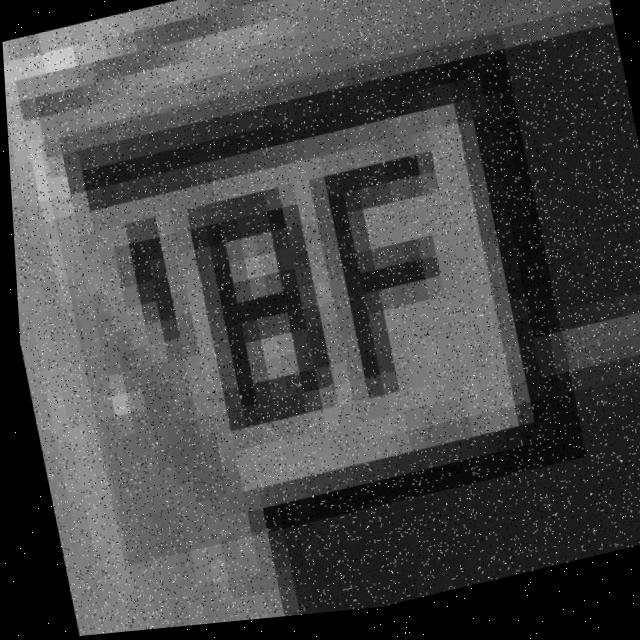LicensePlate: (35, 38, 584, 573)
